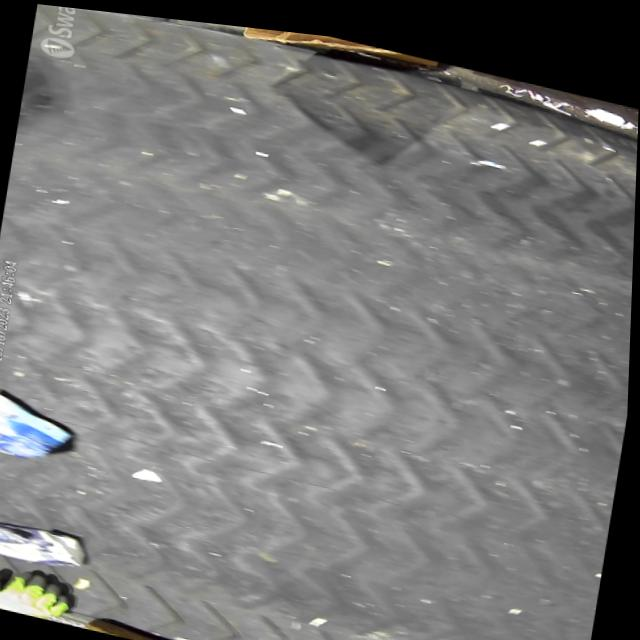can: (0, 385, 80, 466)
